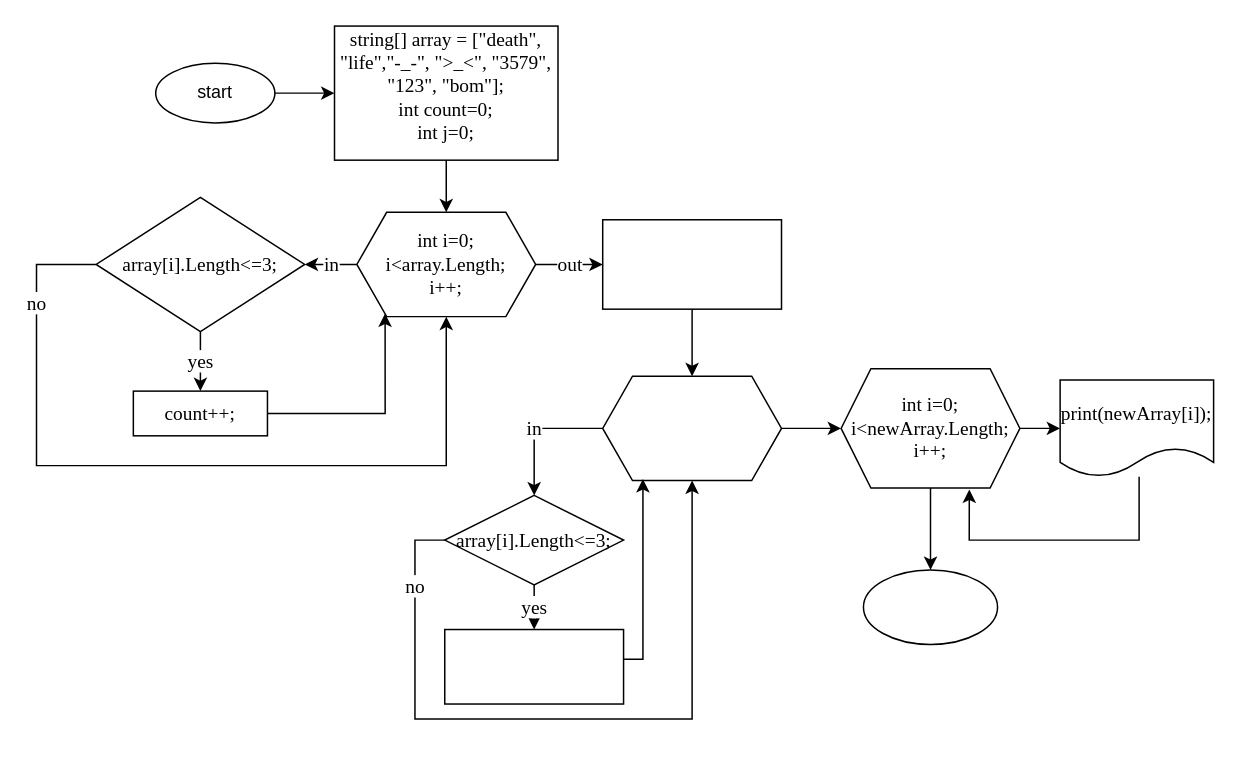
The diagram is 1240 pixels wide and 757 high, and some of its shapes have lost their labels. Each missing label, with the centre of its shape:
"end" belongs at (x=930, y=606).
"int i=0; i<i<array.Length; i++;" belongs at (x=691, y=428).
"new.Array[j]=array[i]; j++;" belongs at (x=533, y=666).
"string newArray=new string[count];" belongs at (x=691, y=263).
